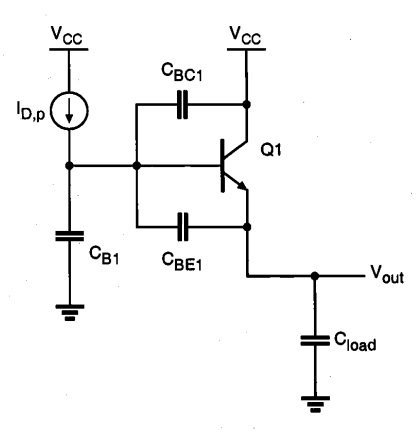capacity: (50, 225, 87, 247), (296, 329, 332, 351), (172, 207, 193, 243), (174, 86, 192, 122)
current: (47, 87, 91, 132)
gnd: (50, 299, 88, 324), (297, 390, 335, 415)
npn: (214, 132, 257, 198)
